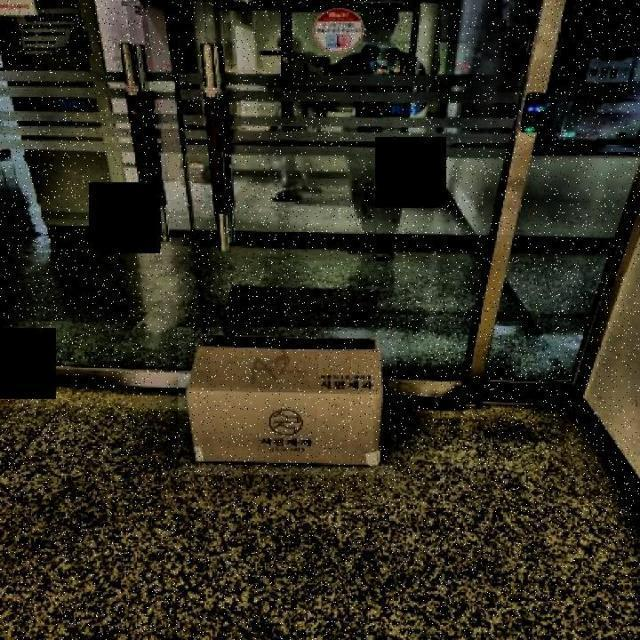box: (178, 328, 397, 476)
